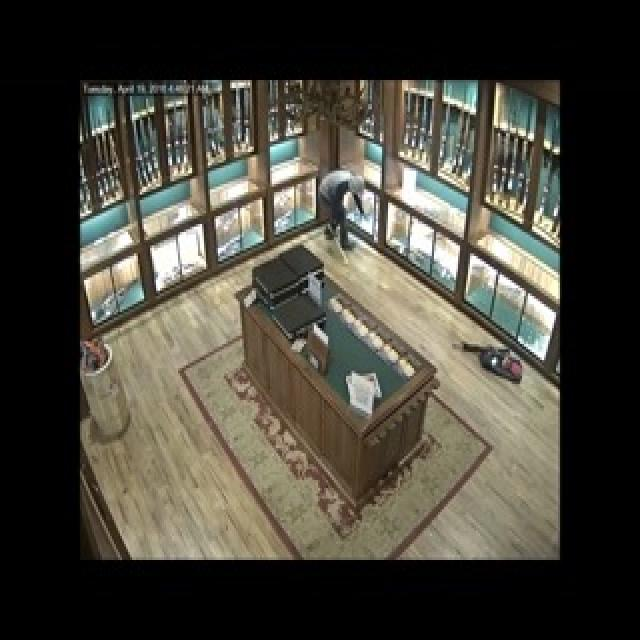thief: (313, 171, 369, 250)
